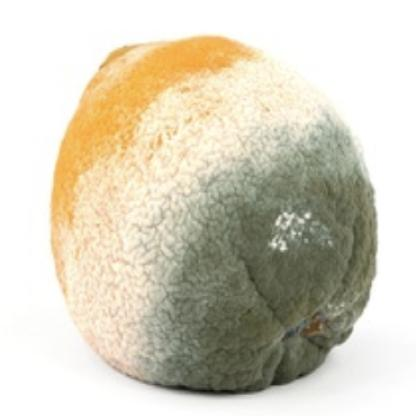rotten: (53, 31, 380, 390)
